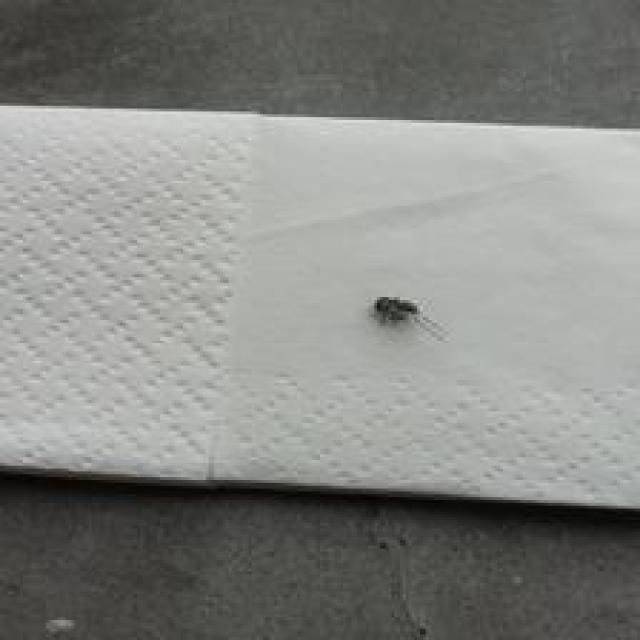Aedes albopictus: (370, 293, 447, 341)
